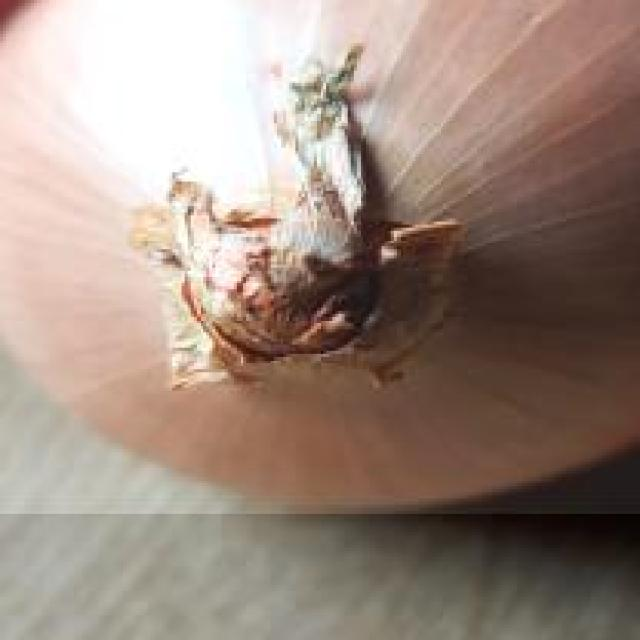onion: (0, 0, 640, 517)
